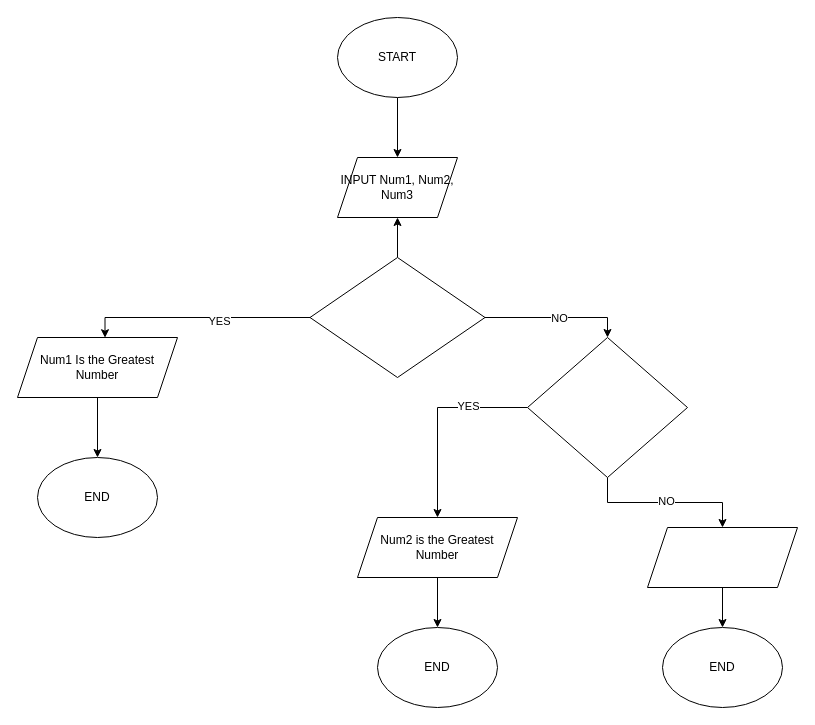
Image size: 815x725. Some labels were removed from this diagram. The shapes that lost their labels are listed below. From the top down, each one's box as (x1, y1, x2, y2) in pixels, then its label:
(309, 256, 485, 378): IF Num1 >= Num2 AND Num1 >= Num3
(526, 336, 688, 478): IF Num2 >= Num1 AND Num2 >= Num3
(646, 526, 798, 588): Num3 is the Greatest Number
